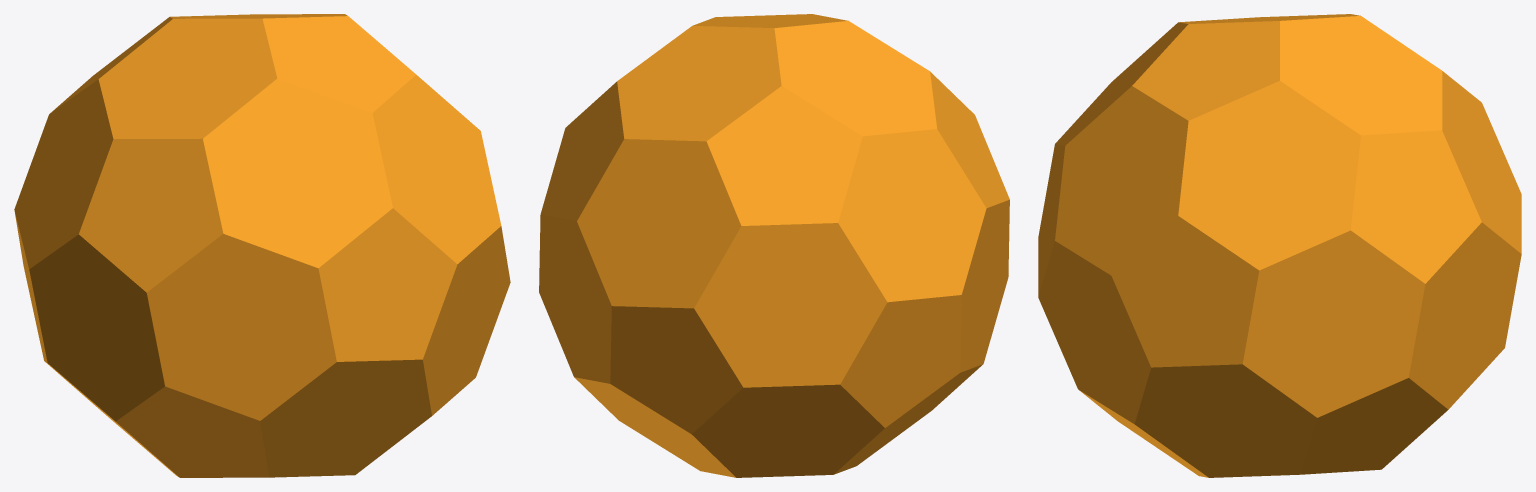
File: SM_Primitive_SoccerBall_01.fbx
3 renders of one model, left to right at view 1: azimuth 30°, elevation 25°; view 2: azimuth 150°, elevation 25°; view 3: azimuth 270°, elevation 25°, orthographic. The views are drawn at different scales.
Parts seen in each view (by area): view 1: SM_Primitive_SoccerBall_01; view 2: SM_Primitive_SoccerBall_01; view 3: SM_Primitive_SoccerBall_01.
Part boxes in pixels (box(x1,y1,x2,y2)): SM_Primitive_SoccerBall_01: box(14, 14, 510, 477); SM_Primitive_SoccerBall_01: box(539, 14, 1009, 477); SM_Primitive_SoccerBall_01: box(1038, 14, 1521, 477).
Bounding box in the file's own units: 98.64 × 100 × 97.34.
